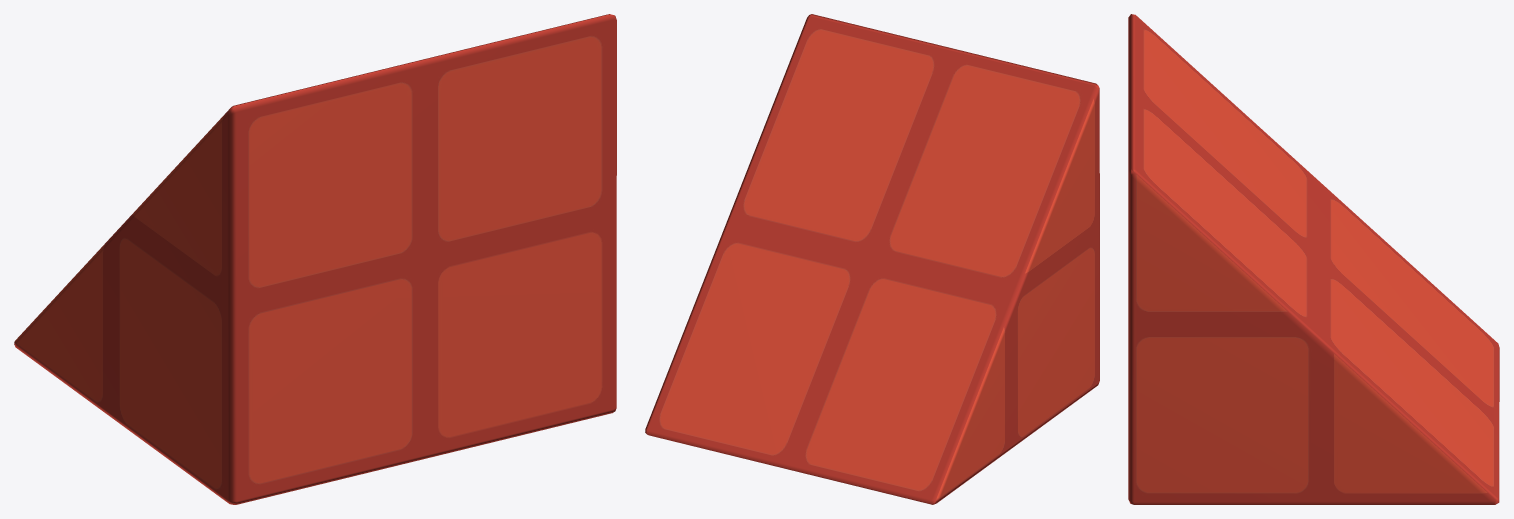
Rendered from red_ramp.obj.
The picture shows the model from 3 angles, left to right: view 1: azimuth 30°, elevation 25°; view 2: azimuth 150°, elevation 25°; view 3: azimuth 270°, elevation 25°; orthographic projection. The views are drawn at different scales.
Parts seen in each view (by area): view 1: pCube10_Mesh.012; view 2: pCube10_Mesh.012; view 3: pCube10_Mesh.012.
Boxes of the visible parts, x1,y1,x2,y2 form: pCube10_Mesh.012: (14, 14, 616, 504); pCube10_Mesh.012: (645, 14, 1099, 504); pCube10_Mesh.012: (1128, 14, 1499, 504).
Size of the model in its own units: 2 by 1.97 by 1.97.
Materials: 1 (1 with a texture image).
